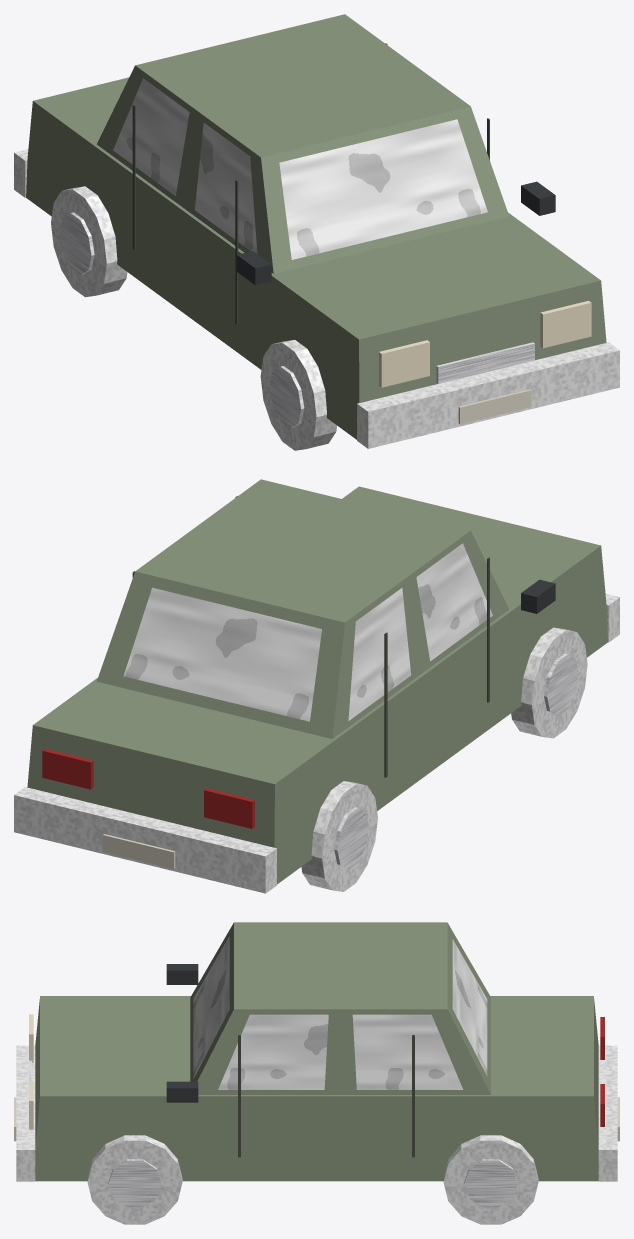
The model's file is utilitaria.obj.
3 renders of one model, top to bottom at view 1: azimuth 30°, elevation 25°; view 2: azimuth 150°, elevation 25°; view 3: azimuth 270°, elevation 25°, orthographic. The views are drawn at different scales.
Visible parts, largest first — view 1: liscio_000, vetro_001, gomma_005, gomma_008, liscio_002, metallo_009, metallo_006, liscio_004, liscio_007, liscio_010; view 2: liscio_000, vetro_001, gomma_005, gomma_008, metallo_009, liscio_003, liscio_007, liscio_010, liscio_004; view 3: liscio_000, vetro_001, gomma_008, gomma_005, metallo_009, liscio_004, liscio_010, liscio_002, liscio_003.
Boxes of the visible parts, <box> form: liscio_000: <box>26,14,606,439</box>; vetro_001: <box>113,78,487,259</box>; gomma_005: <box>14,149,619,448</box>; gomma_008: <box>51,186,336,450</box>; liscio_002: <box>379,300,591,387</box>; metallo_009: <box>60,212,304,428</box>; metallo_006: <box>436,342,534,383</box>; liscio_004: <box>236,181,555,285</box>; liscio_007: <box>458,389,530,424</box>; liscio_010: <box>132,43,489,324</box>; liscio_000: <box>27,479,607,884</box>; vetro_001: <box>123,543,492,721</box>; gomma_005: <box>14,594,619,893</box>; gomma_008: <box>301,627,587,891</box>; metallo_009: <box>334,653,578,869</box>; liscio_003: <box>42,748,254,828</box>; liscio_007: <box>103,834,175,868</box>; liscio_010: <box>132,496,489,777</box>; liscio_004: <box>521,579,555,613</box>; liscio_000: <box>35,922,598,1181</box>; vetro_001: <box>193,936,487,1089</box>; gomma_008: <box>87,1135,538,1224</box>; gomma_005: <box>16,1045,617,1181</box>; metallo_009: <box>108,1159,517,1207</box>; liscio_004: <box>166,964,198,1102</box>; liscio_010: <box>238,1035,414,1157</box>; liscio_002: <box>29,1014,33,1129</box>; liscio_003: <box>600,1017,604,1126</box>.
Size of the model in its own units: 1.86 by 1.41 by 3.83.
11 materials, 5 textured.
